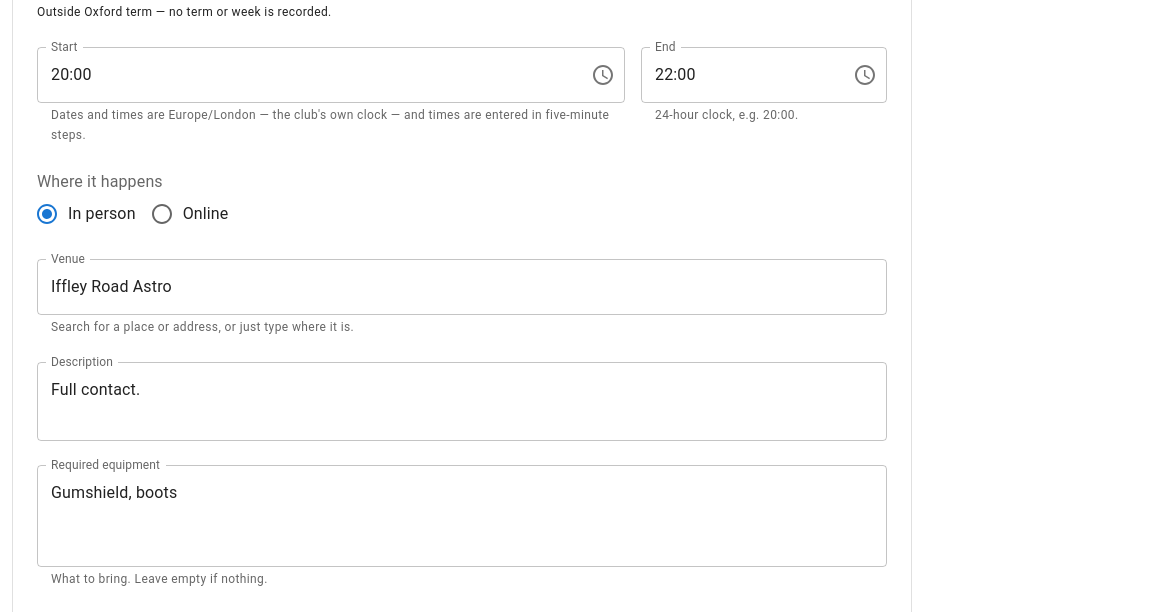
it: the amendment editor › shows what was typed, not what was loaded, when Save changes… is pressed
(page scrolled)
Replace the text in the dropdown labelled "Venue" with "University Parks" at (447,287), box [46,268,848,306]
(page scrolled)
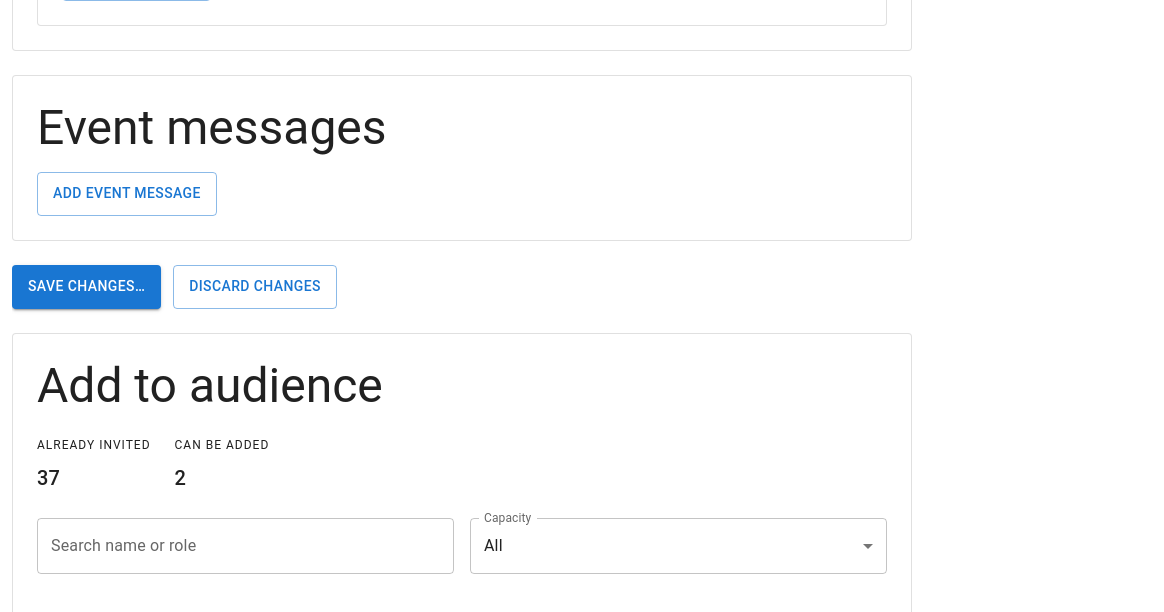
Click the button with test id "continue-to-review".
click(87, 287)  # box [12,265,161,309]
(page scrolled)
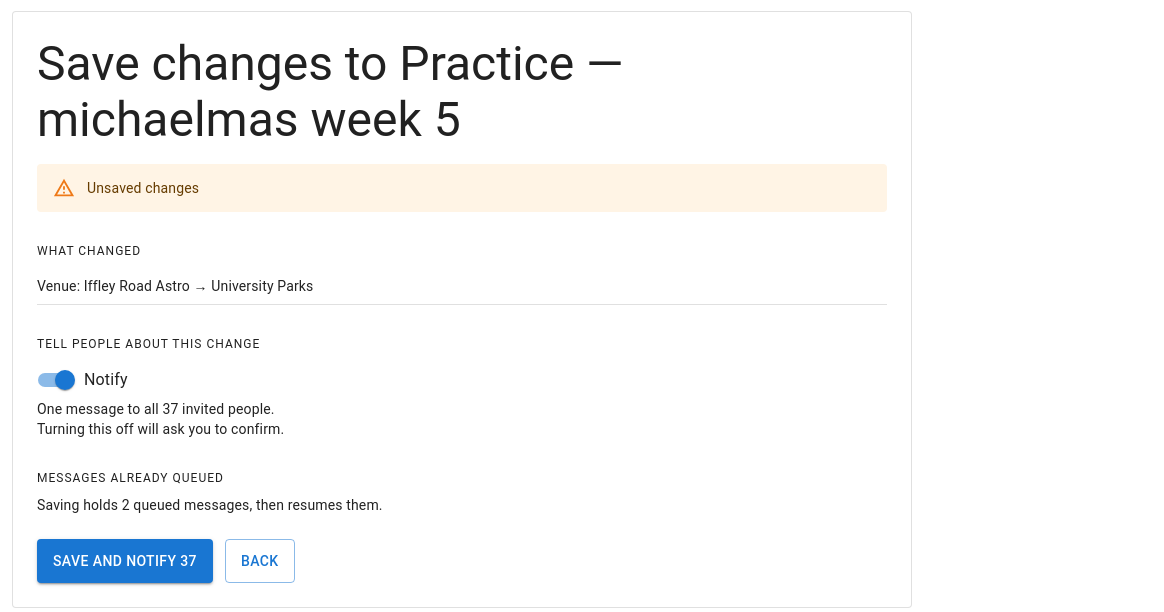
expect the text "Venue: Iffley Road Astro → University Parks" is shown: met, box [37,278,314,294]
